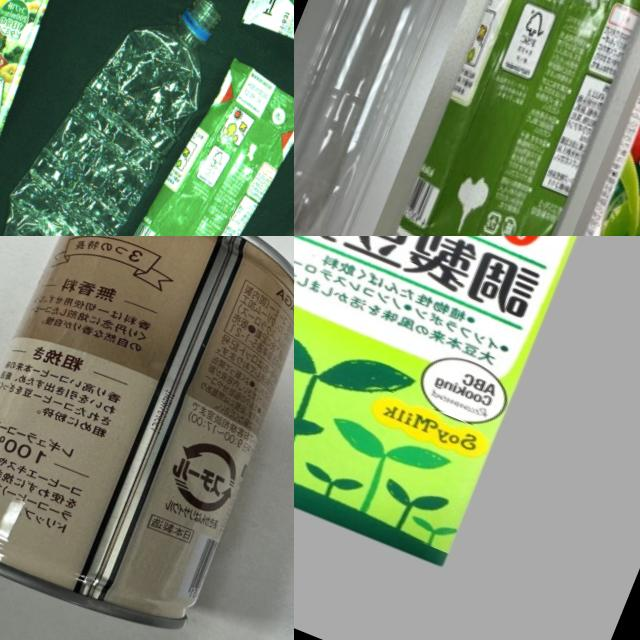Aluminium Foil: (294, 236, 622, 578), (369, 0, 640, 236), (112, 52, 294, 236), (528, 0, 640, 236), (0, 0, 135, 170)
Can: (0, 236, 294, 640)
Transparent Plastic Bottle: (0, 0, 246, 236), (294, 0, 534, 236), (192, 68, 294, 236)
